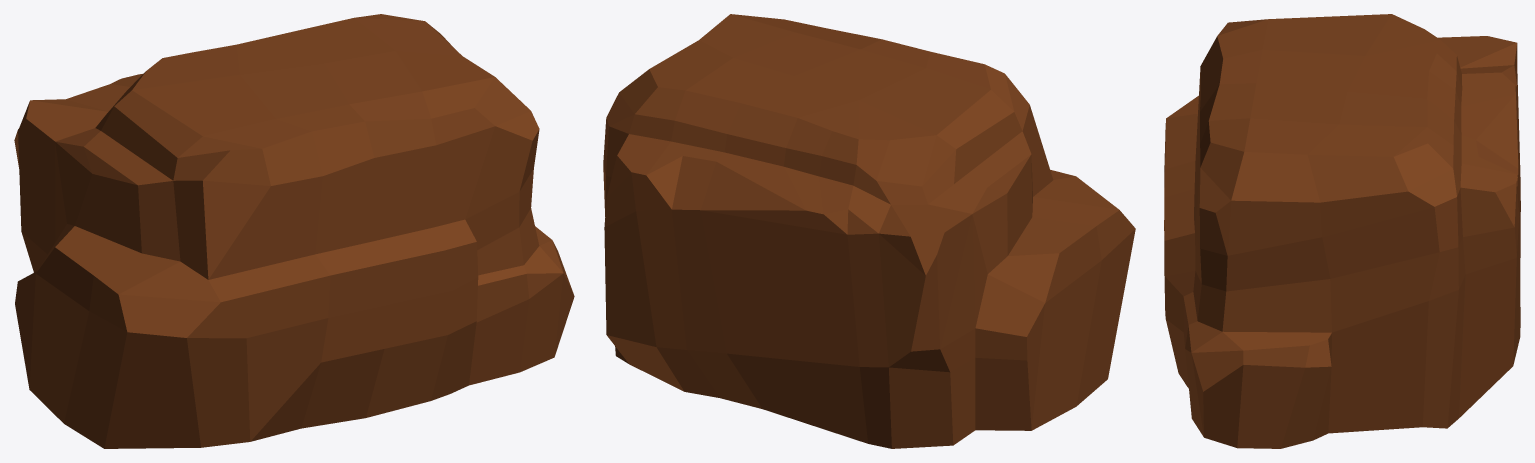
The model's file is BigRock_01.fbx.
The picture shows the model from 3 angles, left to right: view 1: azimuth 30°, elevation 25°; view 2: azimuth 150°, elevation 25°; view 3: azimuth 270°, elevation 25°; orthographic projection. The views are drawn at different scales.
Visible parts, largest first — view 1: BigRock_01; view 2: BigRock_01; view 3: BigRock_01.
Boxes of the visible parts, bbox=[...] form: BigRock_01: bbox=[14, 14, 574, 448]; BigRock_01: bbox=[603, 14, 1135, 448]; BigRock_01: bbox=[1164, 14, 1520, 448].
Bounding box in the file's own units: 618 × 372 × 430.
